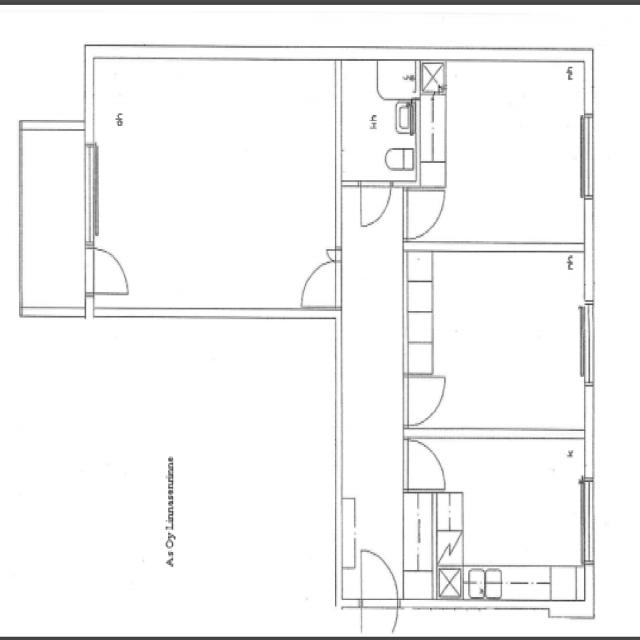door: (348, 542, 403, 635), (82, 238, 135, 302), (399, 368, 452, 431), (401, 433, 452, 497), (291, 248, 342, 312), (401, 185, 449, 244), (354, 178, 395, 231)
window: (571, 292, 602, 396), (78, 138, 105, 248), (572, 102, 601, 204), (574, 474, 600, 570)
zone: (86, 54, 344, 318), (404, 246, 588, 440), (421, 56, 587, 254), (426, 437, 590, 608), (338, 59, 418, 187)
